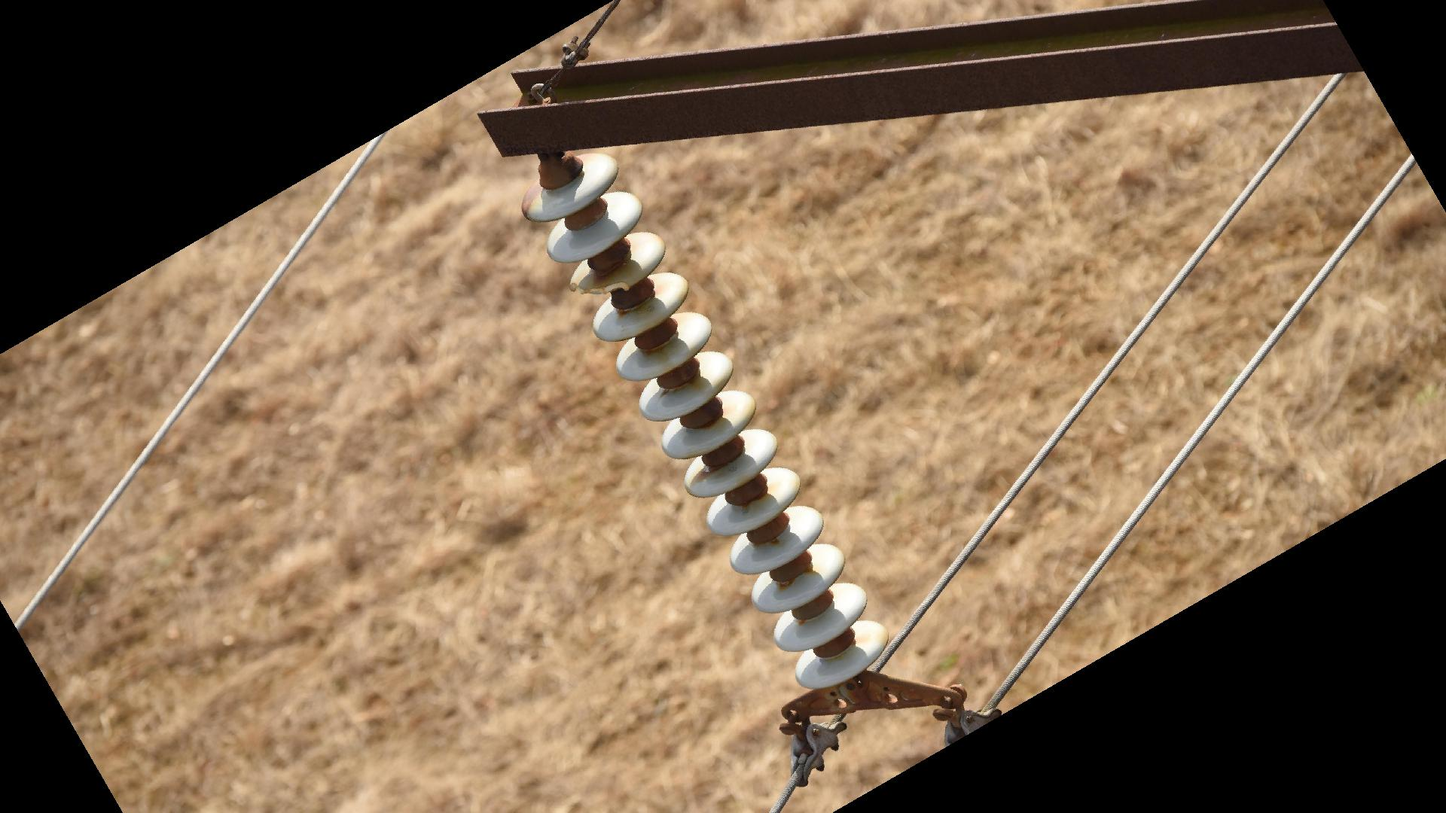insulator: (517, 149, 894, 694)
insulator_breakage: (566, 277, 635, 298)
